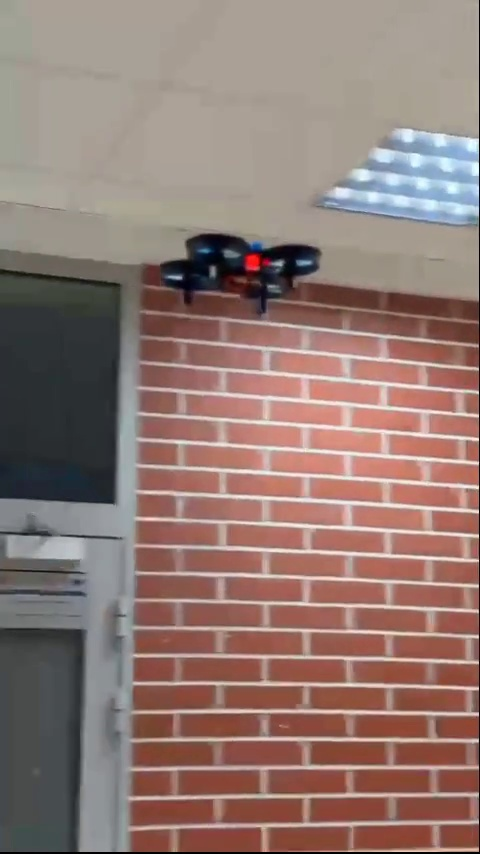drone: (156, 231, 319, 312)
